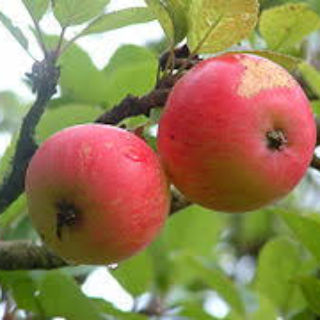tao: (153, 48, 320, 217), (21, 117, 175, 272)
